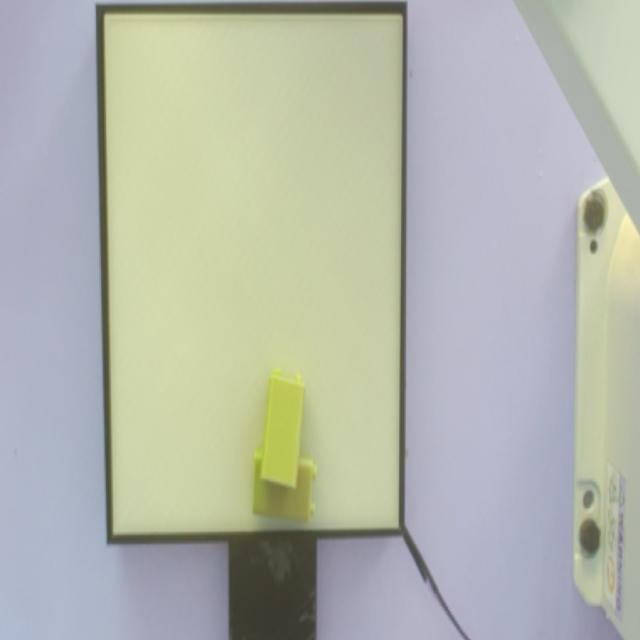bateria: (260, 369, 305, 490)
mesa: (96, 1, 407, 545)
